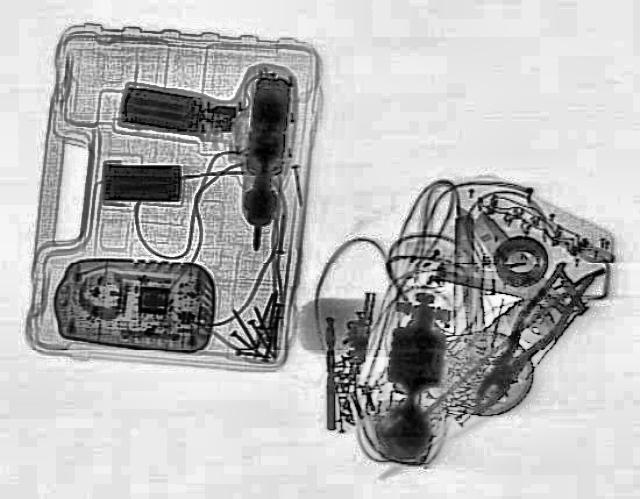Pliers: (452, 256, 600, 420)
